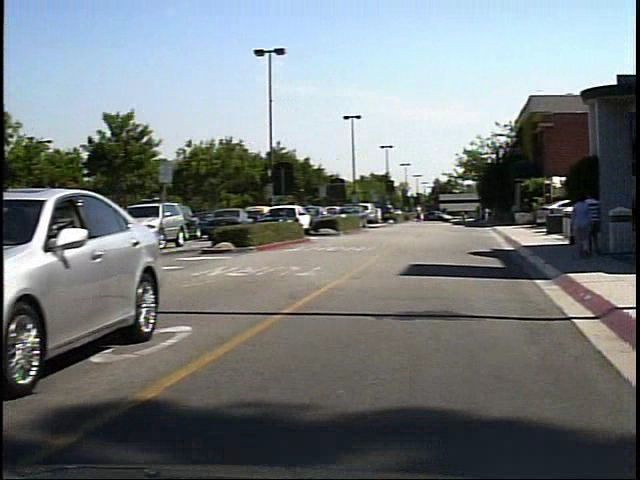person: (578, 191, 604, 265), (594, 190, 613, 258), (422, 204, 433, 224)
